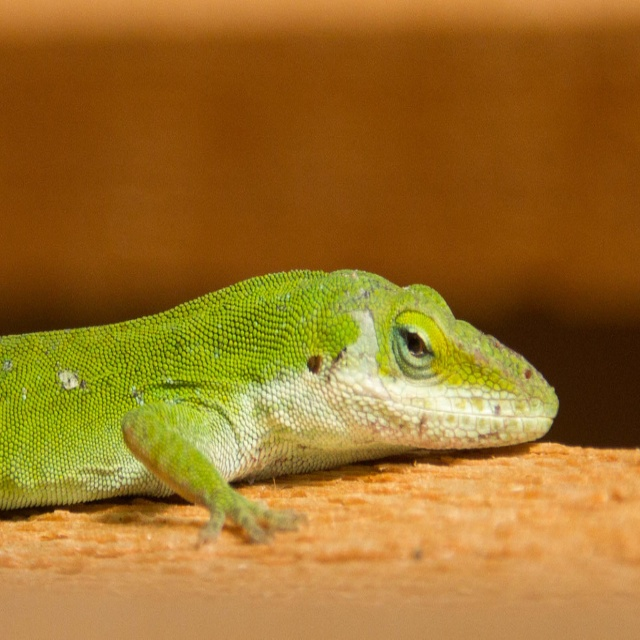Lizard: (0, 269, 560, 551)
